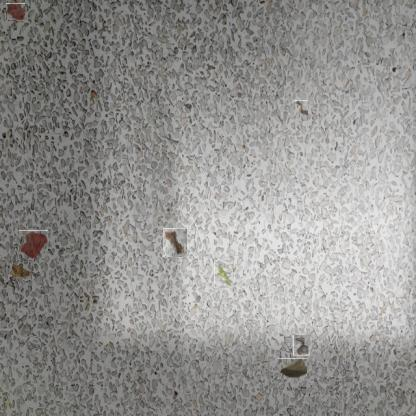dirty: (163, 228, 187, 257), (278, 358, 308, 379), (212, 263, 236, 286), (8, 261, 32, 281), (19, 336, 41, 354), (293, 334, 310, 356), (294, 100, 308, 121)
liquid: (18, 230, 48, 259), (6, 2, 25, 21)
